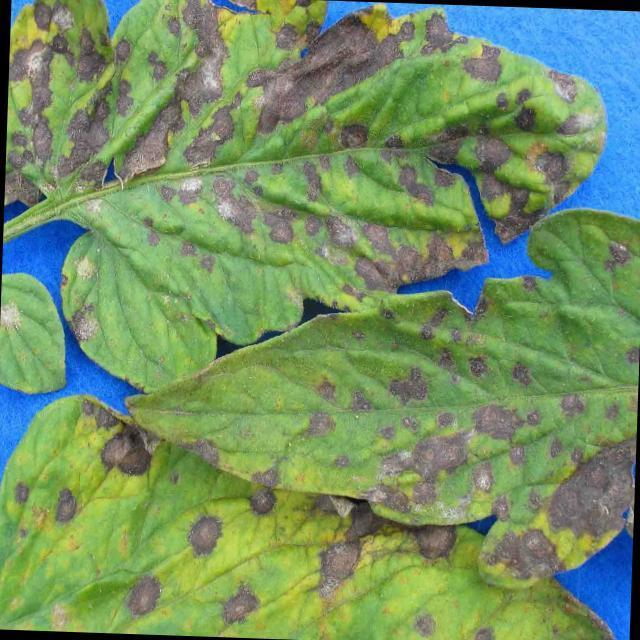Septoria: (2, 5, 606, 276), (0, 423, 619, 640), (250, 288, 640, 537), (53, 232, 138, 358)
